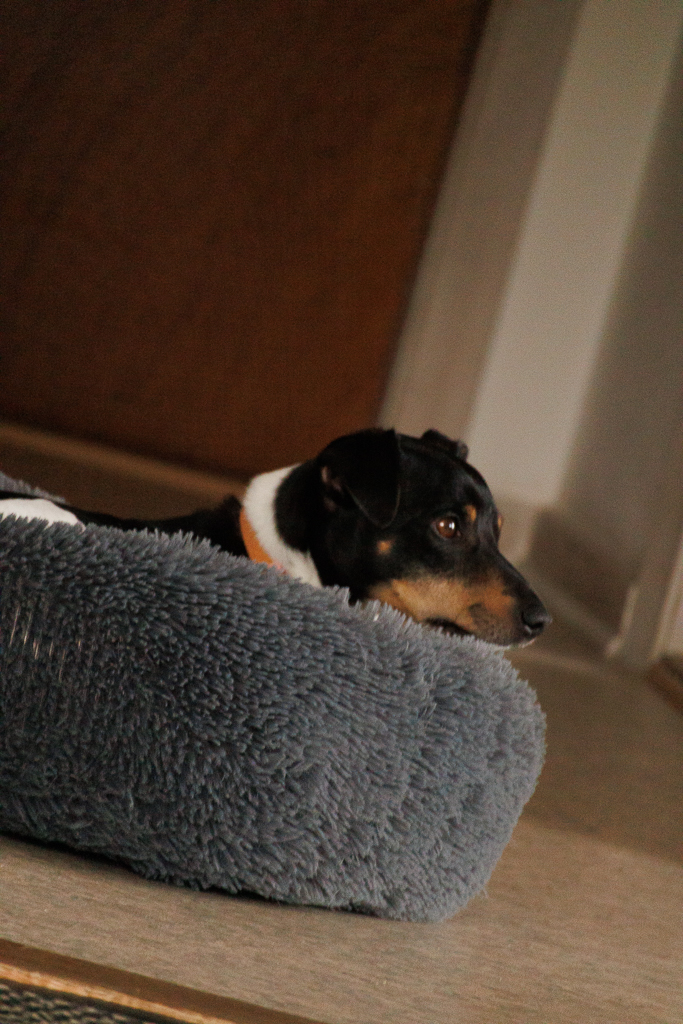Dog: (0, 420, 564, 658)
